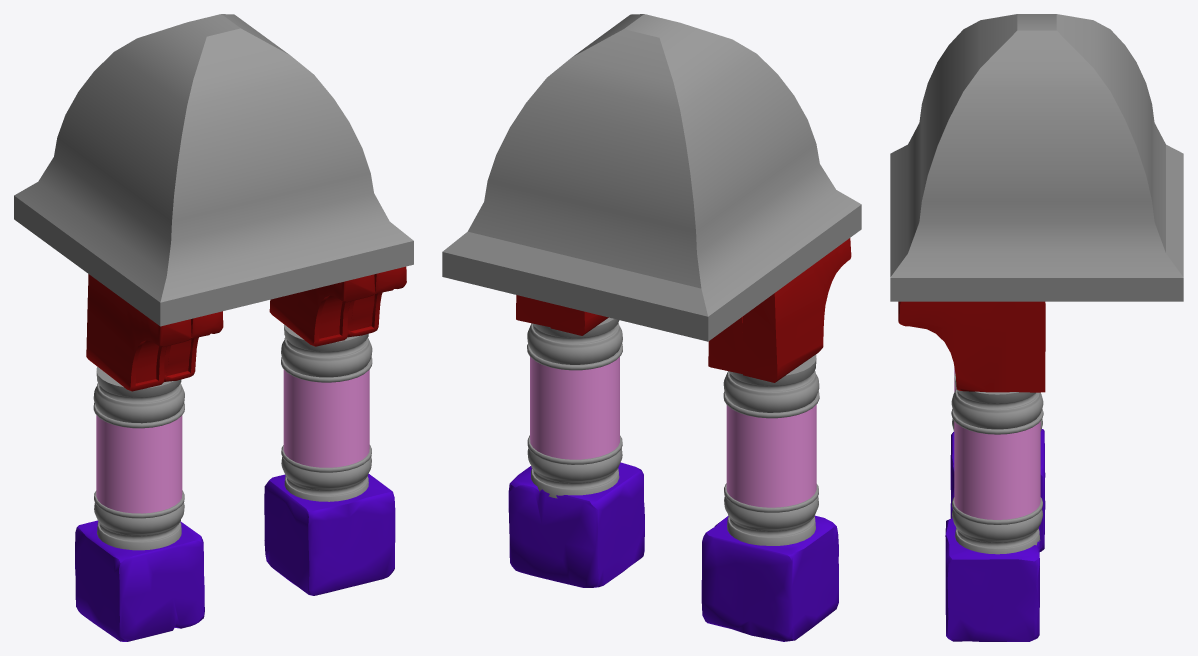
Rendered from Door.fbx.
3 renders of one model, left to right at view 1: azimuth 30°, elevation 25°; view 2: azimuth 150°, elevation 25°; view 3: azimuth 270°, elevation 25°, orthographic. The views are drawn at different scales.
Parts seen in each view (by area): view 1: Object002; view 2: Object002; view 3: Object002.
Part boxes in pixels (bbox=[...]): Object002: bbox=[14, 14, 413, 641]; Object002: bbox=[442, 14, 861, 641]; Object002: bbox=[890, 14, 1183, 641].
Size of the model in its own units: 5.03 by 9.73 by 4.65.
